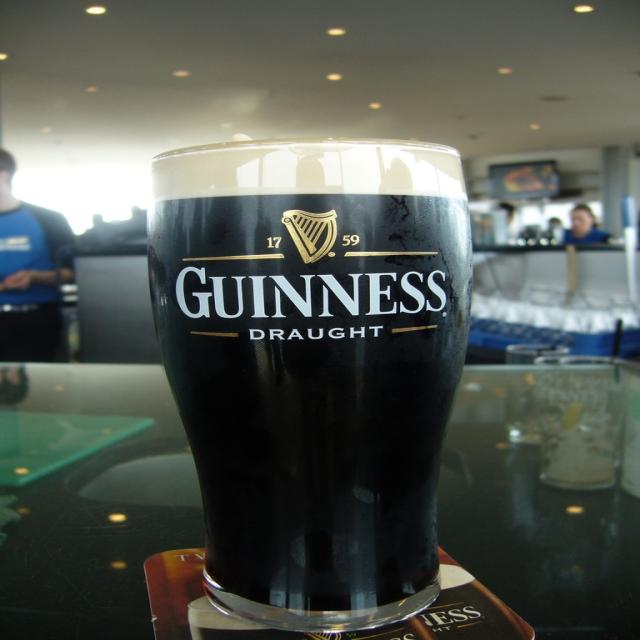guiness: (171, 210, 453, 323)
